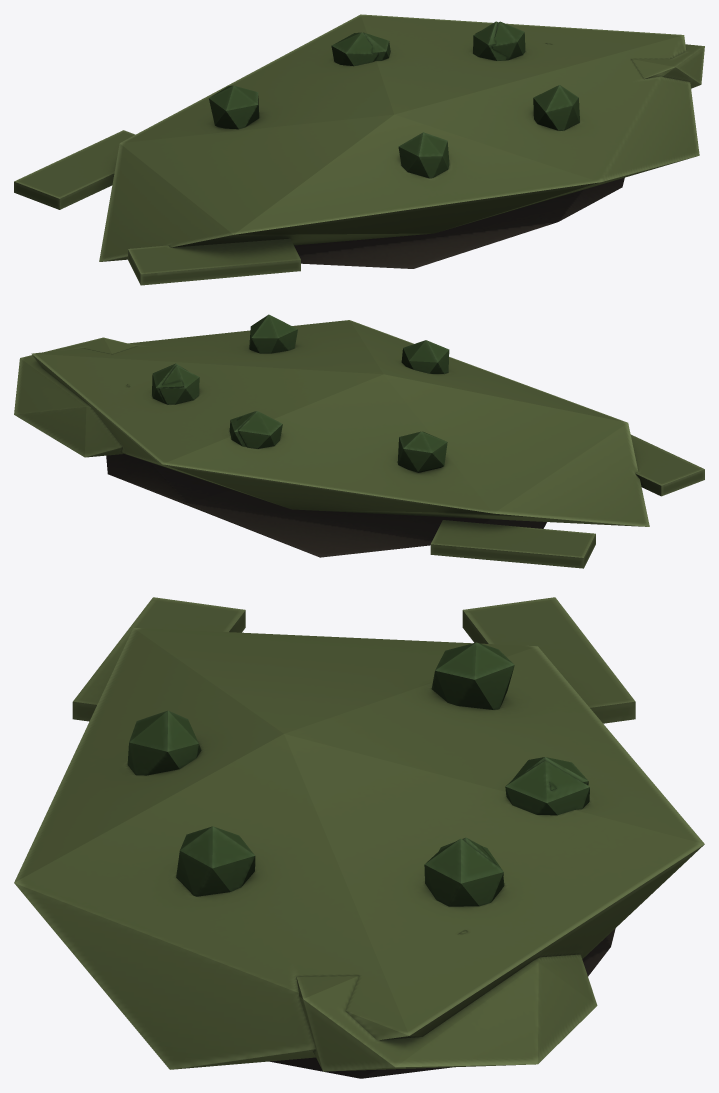
Rendered from sign_mother_skin.glb.
3 renders of one model, top to bottom at view 1: azimuth 30°, elevation 25°; view 2: azimuth 150°, elevation 25°; view 3: azimuth 270°, elevation 25°, orthographic. The views are drawn at different scales.
Parts seen in each view (by area): view 1: sign_mother_skin; view 2: sign_mother_skin; view 3: sign_mother_skin.
Part boxes in pixels (x1=…): sign_mother_skin: x1=14, y1=14, x2=704, y2=285; sign_mother_skin: x1=14, y1=314, x2=704, y2=568; sign_mother_skin: x1=14, y1=597, x2=704, y2=1078.
Bounding box in the file's own units: 1.81 × 0.3321 × 1.06.
1 material, 1 textured.
